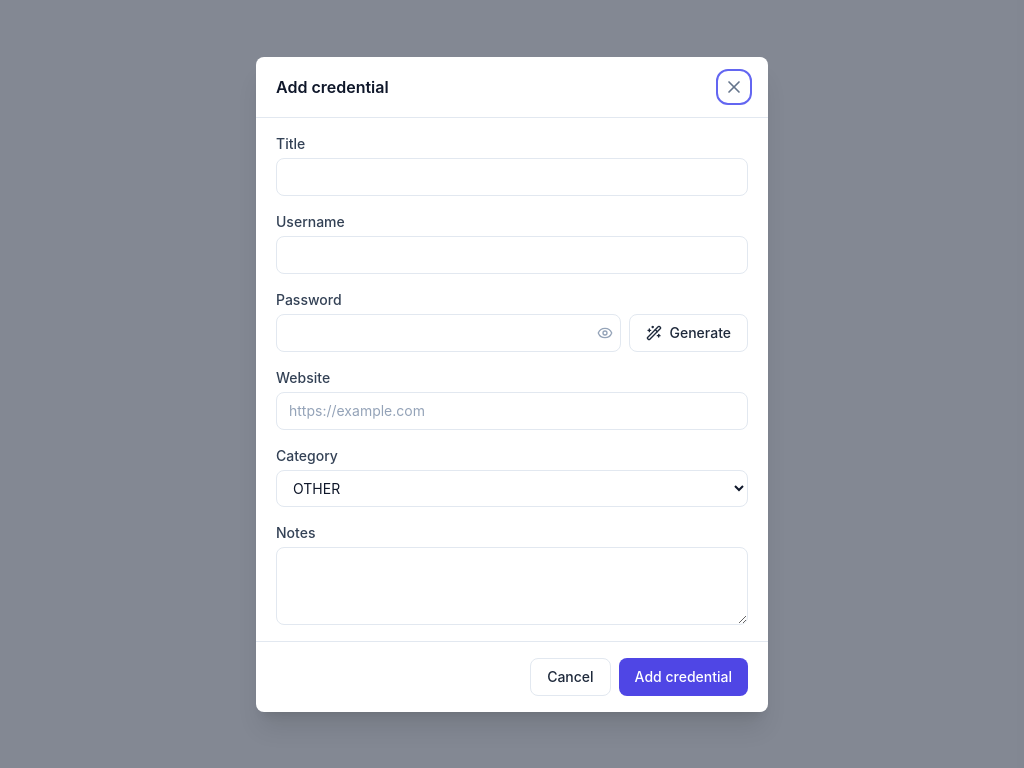
Test: CredentialFormModal › should_rejectSubmission_when_titleIsBlank_withoutCallingOnSubmit
The width and height of the screenshot is (1024, 768).
Type "Str0ng!Passw0rd" into the password field labelled "Password" at (448, 332), box [276, 314, 620, 352]
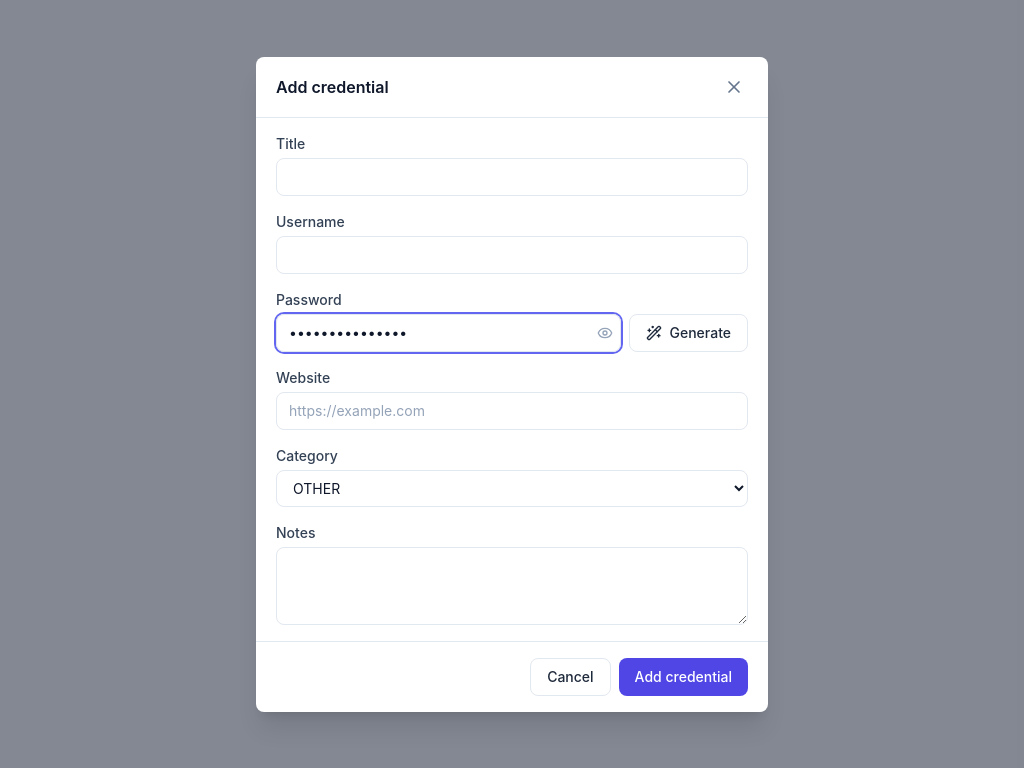
Click the button "Add credential" at (683, 676), box [619, 658, 748, 696]
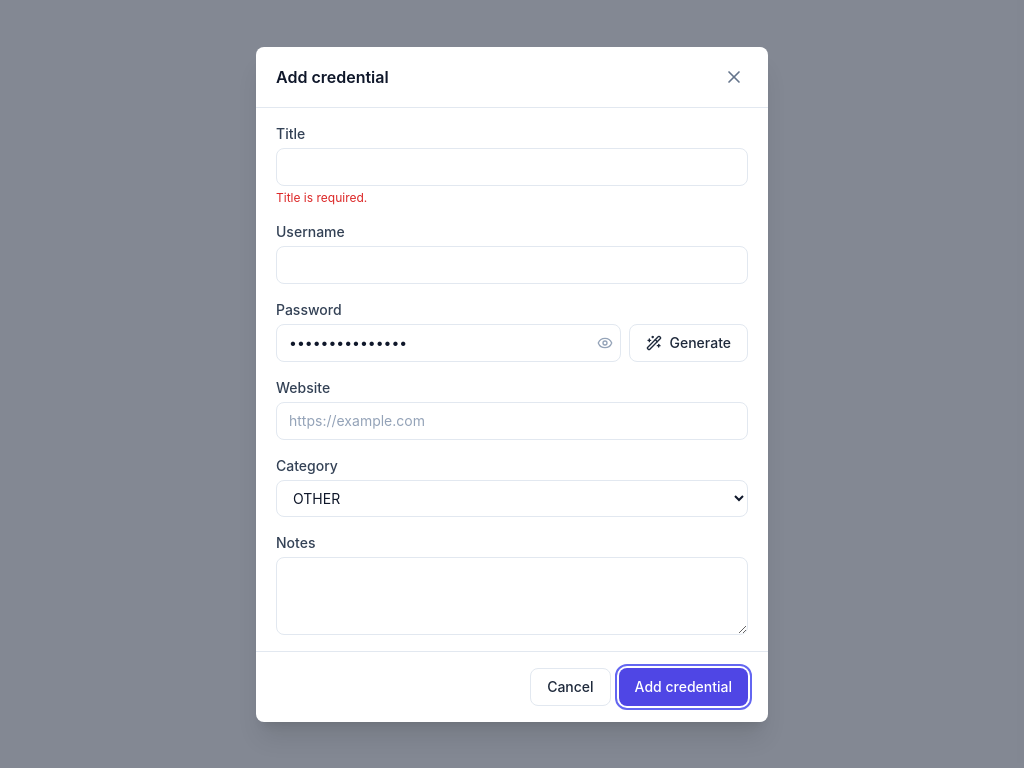
Check: the text "Title is required." is shown, box [276, 190, 367, 204]
